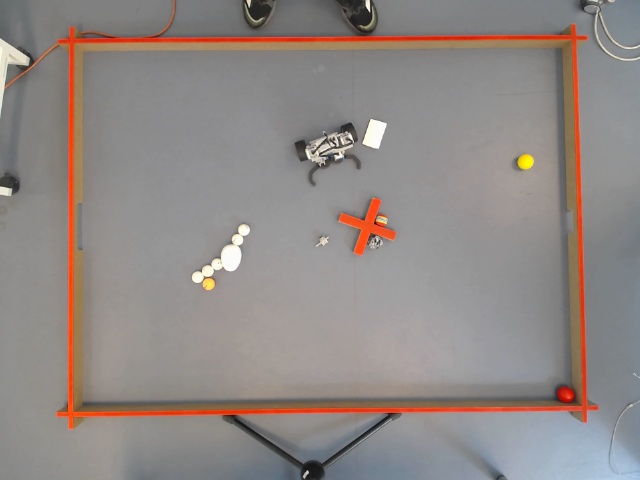big_goal: (66, 201, 84, 249)
cross: (336, 195, 397, 255)
egg: (220, 243, 242, 270)
orange: (202, 276, 215, 293)
robot: (291, 119, 367, 186)
small_goal: (560, 206, 582, 231)
wall: (52, 30, 586, 54), (558, 20, 588, 420), (55, 396, 590, 417), (62, 24, 86, 429)
white: (201, 264, 214, 279), (191, 270, 203, 284), (211, 258, 223, 270), (231, 234, 244, 245), (238, 224, 250, 234)
